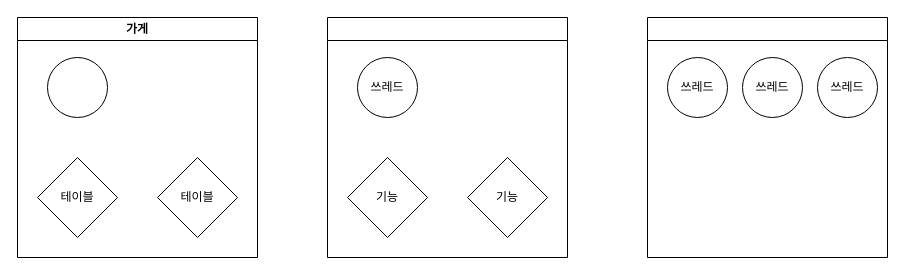
Some shapes in this 905 by 275 pixel diagram are drawn without their labels. The box of each missing label's shape, as (x1, y1, x2, y2) in pixels:
CPU (인력소): (646, 16, 888, 258)
주방장: (46, 56, 108, 118)
프로그램: (326, 16, 568, 258)
